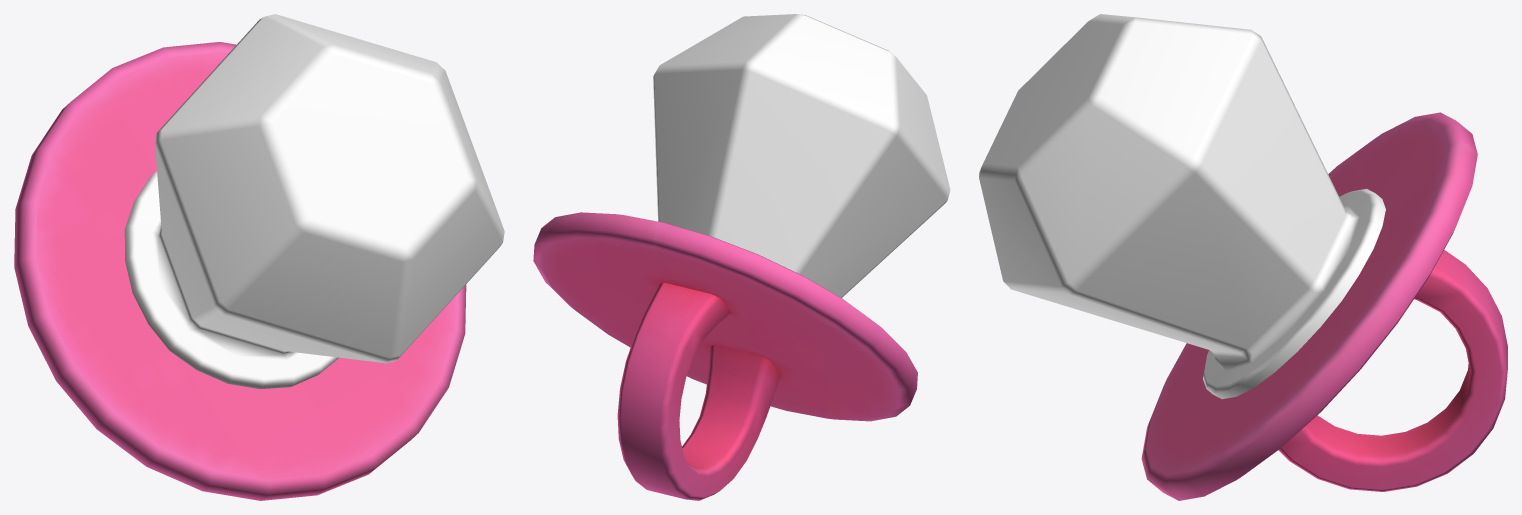
The model's file is GTRingCandy.obj.
3 views of the same model, side by side, from view 1: azimuth 30°, elevation 25°; view 2: azimuth 150°, elevation 25°; view 3: azimuth 270°, elevation 25° (orthographic). The views are drawn at different scales.
Visible parts, largest first — view 1: jiezhitang; view 2: jiezhitang; view 3: jiezhitang.
Part boxes in pixels (left/top/right/bottom): jiezhitang: left=14, top=14, right=504, bottom=500; jiezhitang: left=533, top=14, right=950, bottom=500; jiezhitang: left=979, top=14, right=1507, bottom=500.
Bounding box in the file's own units: 0.7292 × 0.7815 × 0.8124.
